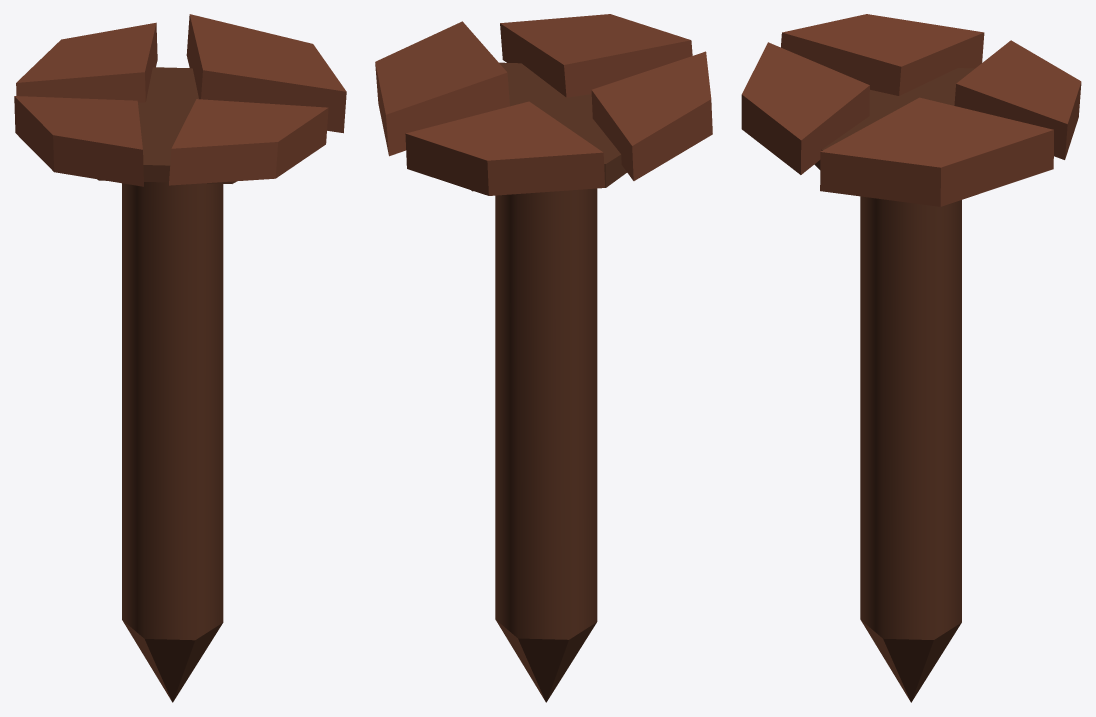
The model's file is parafuso_006.fbx.
3 renders of one model, left to right at view 1: azimuth 30°, elevation 25°; view 2: azimuth 150°, elevation 25°; view 3: azimuth 270°, elevation 25°, orthographic.
Parts seen in each view (by area): view 1: parafuso_006; view 2: parafuso_006; view 3: parafuso_006.
Boxes of the visible parts, <box> form: parafuso_006: <box>14,14,346,702</box>; parafuso_006: <box>375,14,712,702</box>; parafuso_006: <box>741,14,1081,702</box>.
Size of the model in its own units: 41.1 by 82.45 by 40.64.
